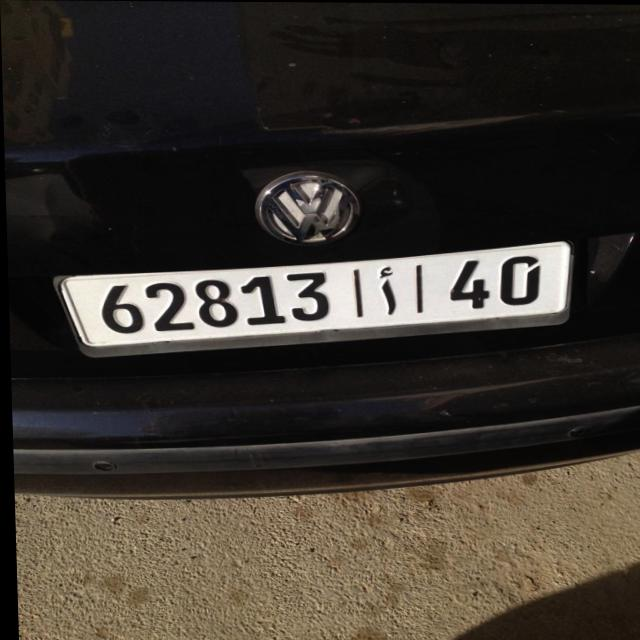License-Plate: (53, 241, 571, 357)
